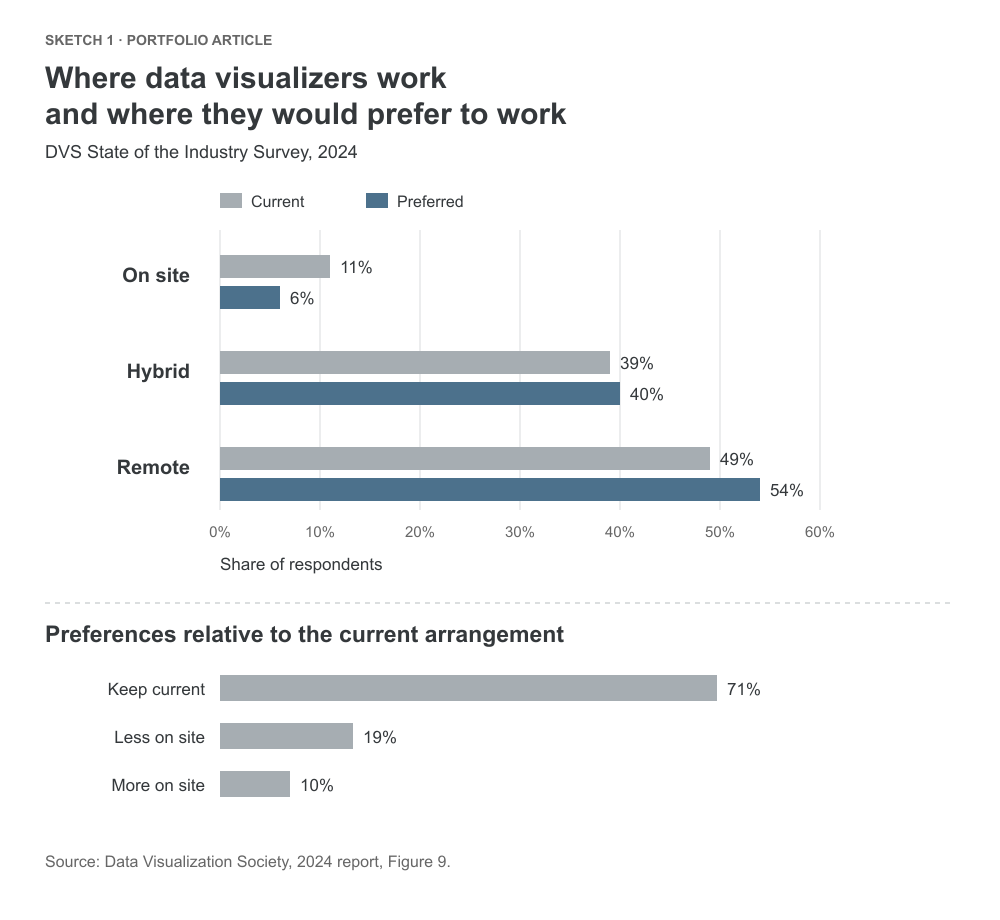

Layout of this report page (visuals, bound fields, positions):
{"tool":"tableau","page":{"name":"Work arrangements 2024","canvas":[800,900],"ordinal":0},"visuals":[{"type":"text","box":[0,0,800,76.5]},{"type":"text","box":[0,76.5,800,36]},{"type":"text","box":[0,112.5,800,40.5]},{"type":"worksheet","title":"1. Current and preferred arrangements","mark":"Automatic","rows":["Category","Series"],"cols":["Percent"],"box":[0,153,800,333]},{"type":"text","box":[0,499.5,800,90]},{"type":"worksheet","title":"2. Preferences relative to the current arrangement","mark":"Automatic","rows":["Category"],"cols":["Percent"],"box":[0,589.5,800,238.5]},{"type":"text","box":[0,841.5,800,58.5]}]}

Visuals, with their boxes on the page's 800x900 design canvas (x1, y1, x2, y2). These are canvas units, not pixel positions in the 1000x920 screenshot, which may show the page scaled, cropped or inside an application window:
text: [left=0, top=0, right=800, bottom=76]
text: [left=0, top=76, right=800, bottom=112]
text: [left=0, top=112, right=800, bottom=153]
"1. Current and preferred arrangements" worksheet: [left=0, top=153, right=800, bottom=486]
text: [left=0, top=500, right=800, bottom=590]
"2. Preferences relative to the current arrangement" worksheet: [left=0, top=590, right=800, bottom=828]
text: [left=0, top=842, right=800, bottom=900]
